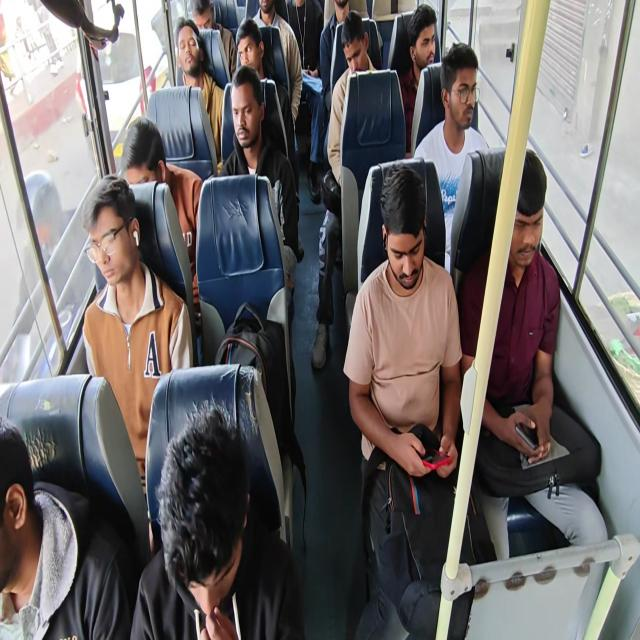person: (152, 442, 249, 640), (87, 187, 164, 416), (0, 416, 57, 639), (484, 164, 545, 267), (393, 207, 442, 335), (116, 123, 172, 204), (176, 24, 218, 109), (239, 66, 271, 168), (346, 30, 386, 103), (451, 56, 482, 145), (281, 0, 328, 48), (328, 6, 364, 58), (187, 0, 220, 49), (239, 24, 262, 86), (408, 15, 436, 60), (252, 0, 270, 26)
